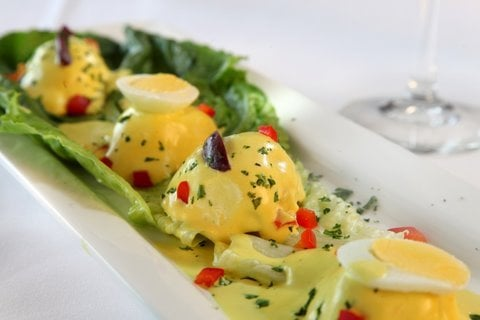sushi: (1, 17, 479, 315)
